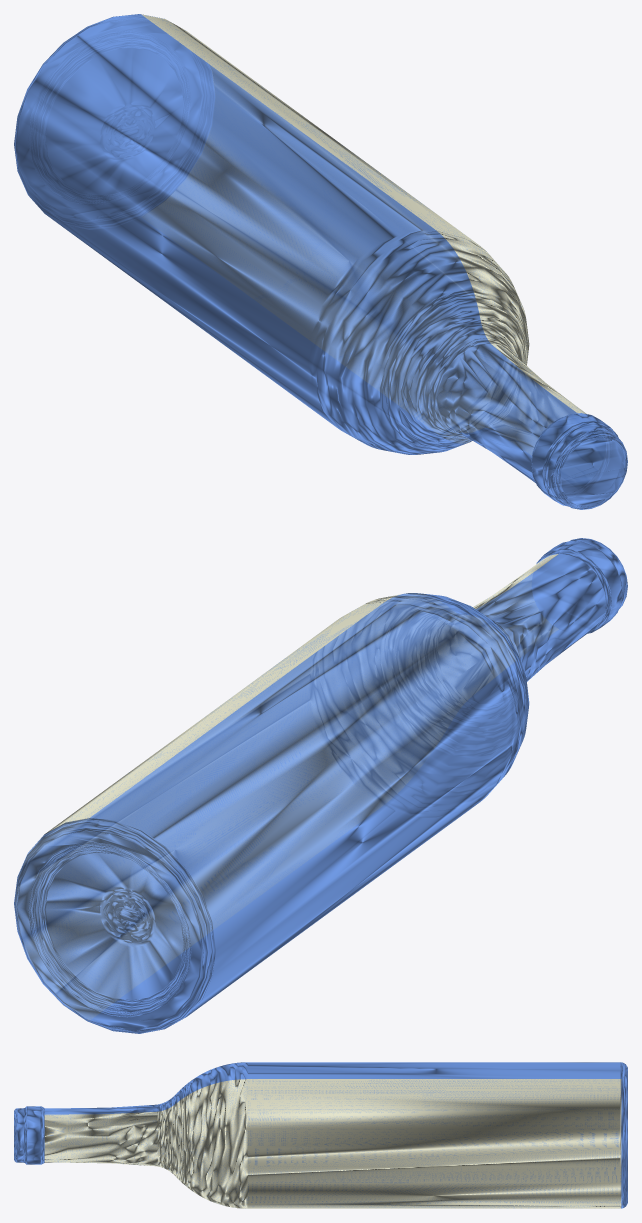
File: model_align.obj
3 views of the same model, one above another, from view 1: azimuth 30°, elevation 25°; view 2: azimuth 150°, elevation 25°; view 3: azimuth 270°, elevation 25° (orthographic). The views are drawn at different scales.
Size of the model in its own units: 0.0329 by 0.0329 by 0.1372.
